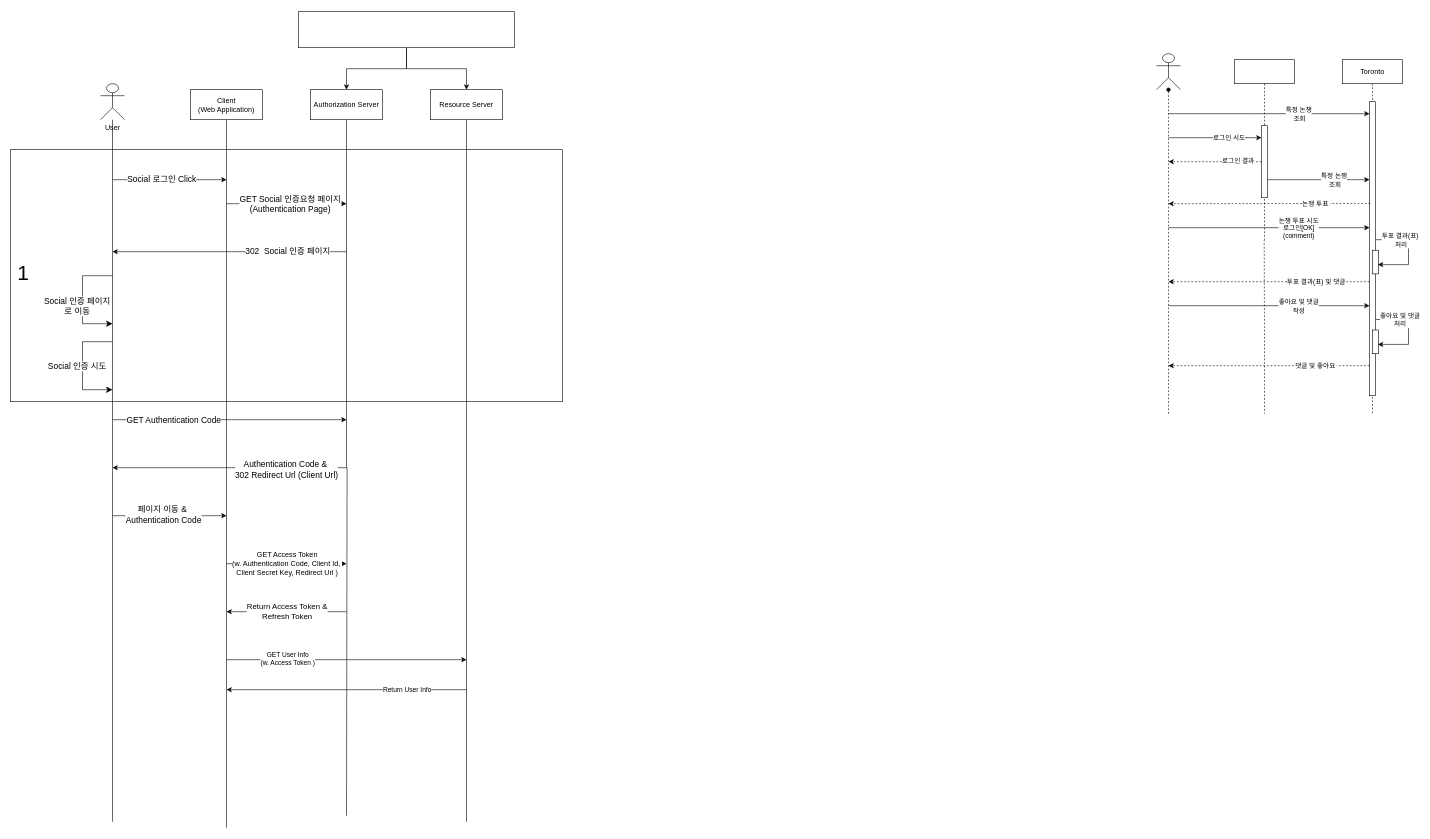
Some shapes in this 1430 by 839 pixel diagram are drawn without their labels. The centre of each missing label's shape, as x and y in pixels:
Actor: pixel 1168 71
Social (Naver, Google...): pixel 406 29
로그인 인증: pixel 1264 149
